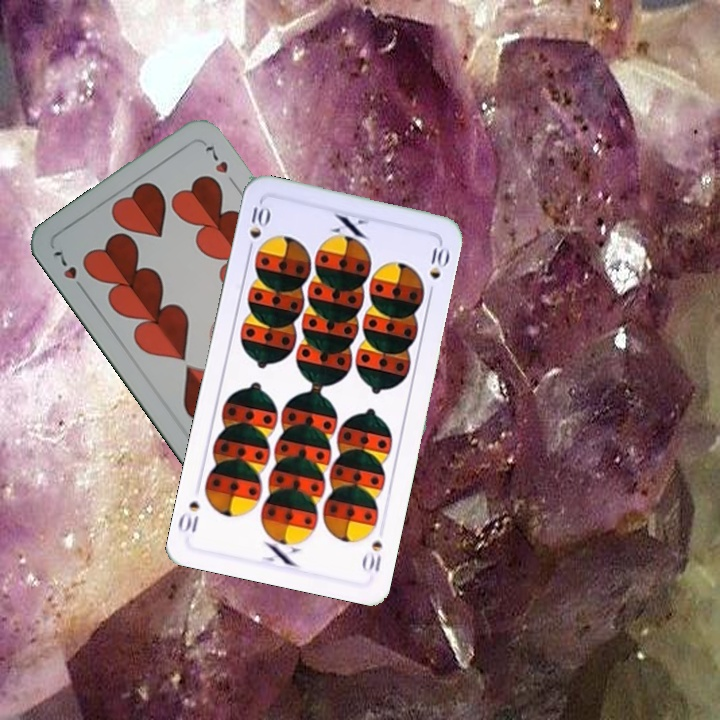H7: (48, 247, 89, 296)
S10: (243, 199, 273, 258), (358, 537, 385, 575)
